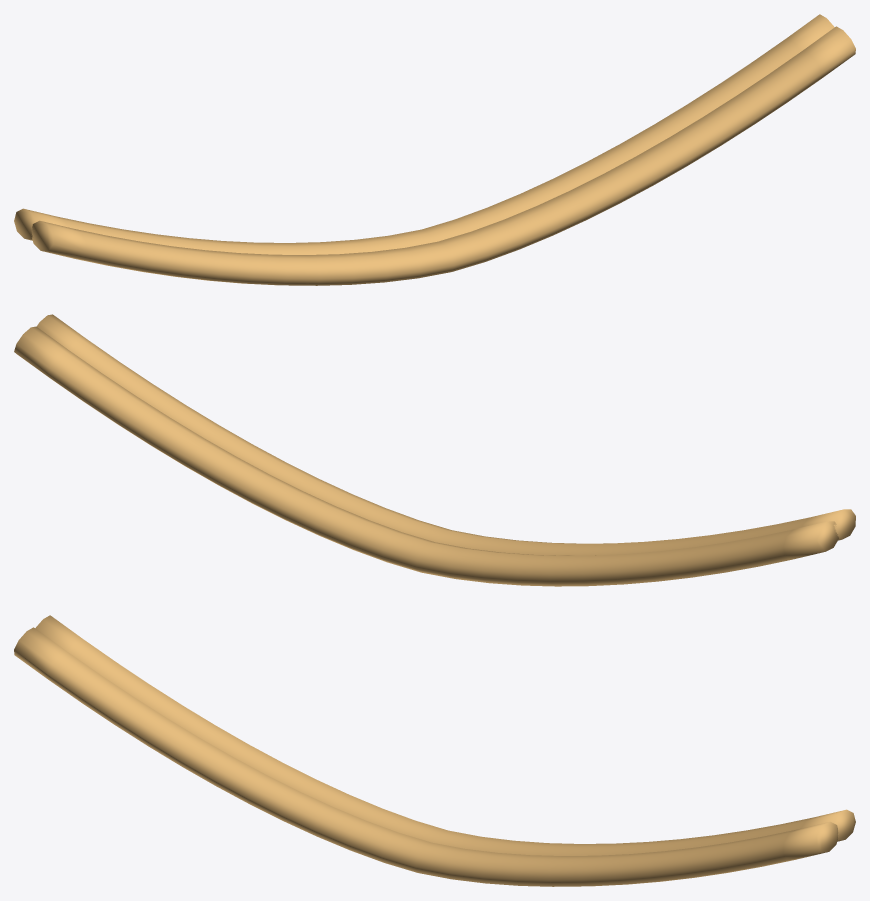
File: dock-rope-B_Rh_Hcu.glb
3 renders of one model, top to bottom at view 1: azimuth 30°, elevation 25°; view 2: azimuth 150°, elevation 25°; view 3: azimuth 330°, elevation 25°, orthographic.
Visible parts, largest first — view 1: dock-rope; view 2: dock-rope; view 3: dock-rope.
Boxes of the visible parts, box(x1,y1,x2,y2) form: dock-rope: box(14, 14, 855, 285); dock-rope: box(14, 314, 855, 586); dock-rope: box(14, 615, 855, 886).
Bounding box in the file's own units: 2.7 × 0.46 × 0.22.
